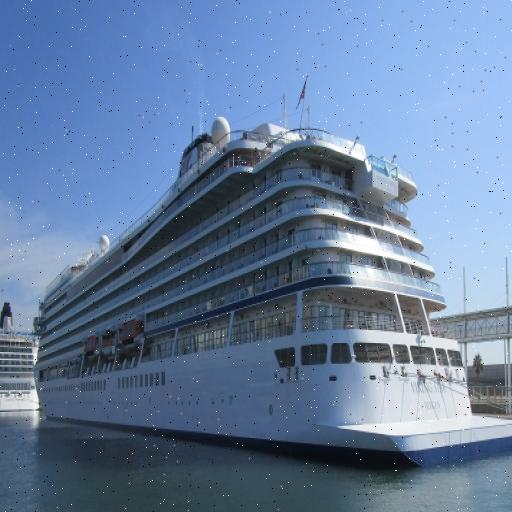cruises: (33, 101, 512, 466), (1, 295, 44, 416)
